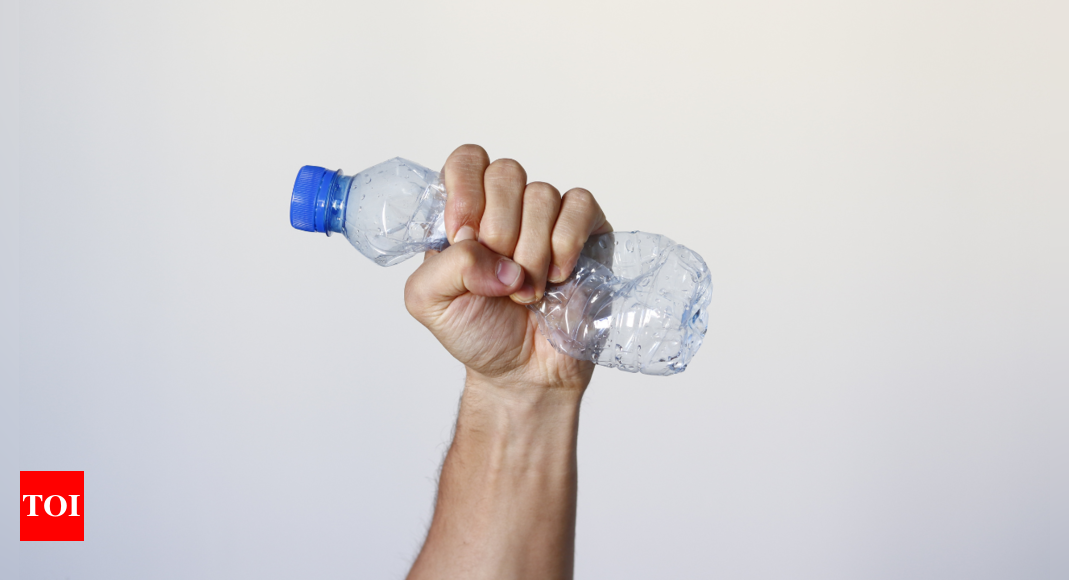plastic_bottle: (285, 139, 725, 392)
